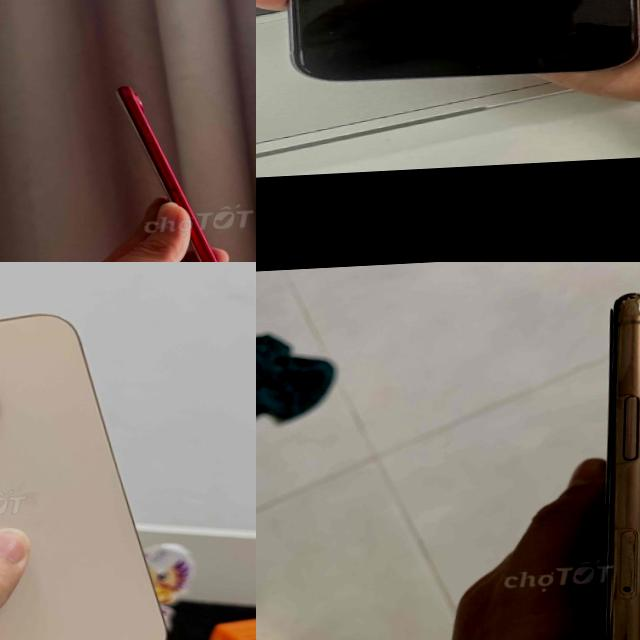gen_11: (556, 290, 640, 640), (290, 0, 640, 82)
gen_16: (0, 316, 166, 640)
gen_7_8: (110, 78, 256, 262)
scratch: (450, 58, 493, 78), (286, 48, 324, 68), (310, 22, 344, 44), (627, 290, 640, 331), (171, 187, 186, 207), (200, 244, 210, 258)
